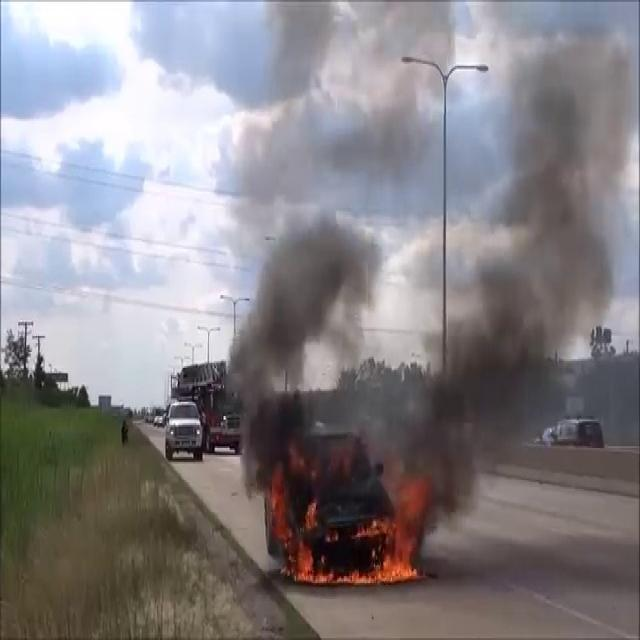Fire: (280, 485, 433, 592)
Smoke: (223, 2, 636, 494), (364, 11, 638, 505)
